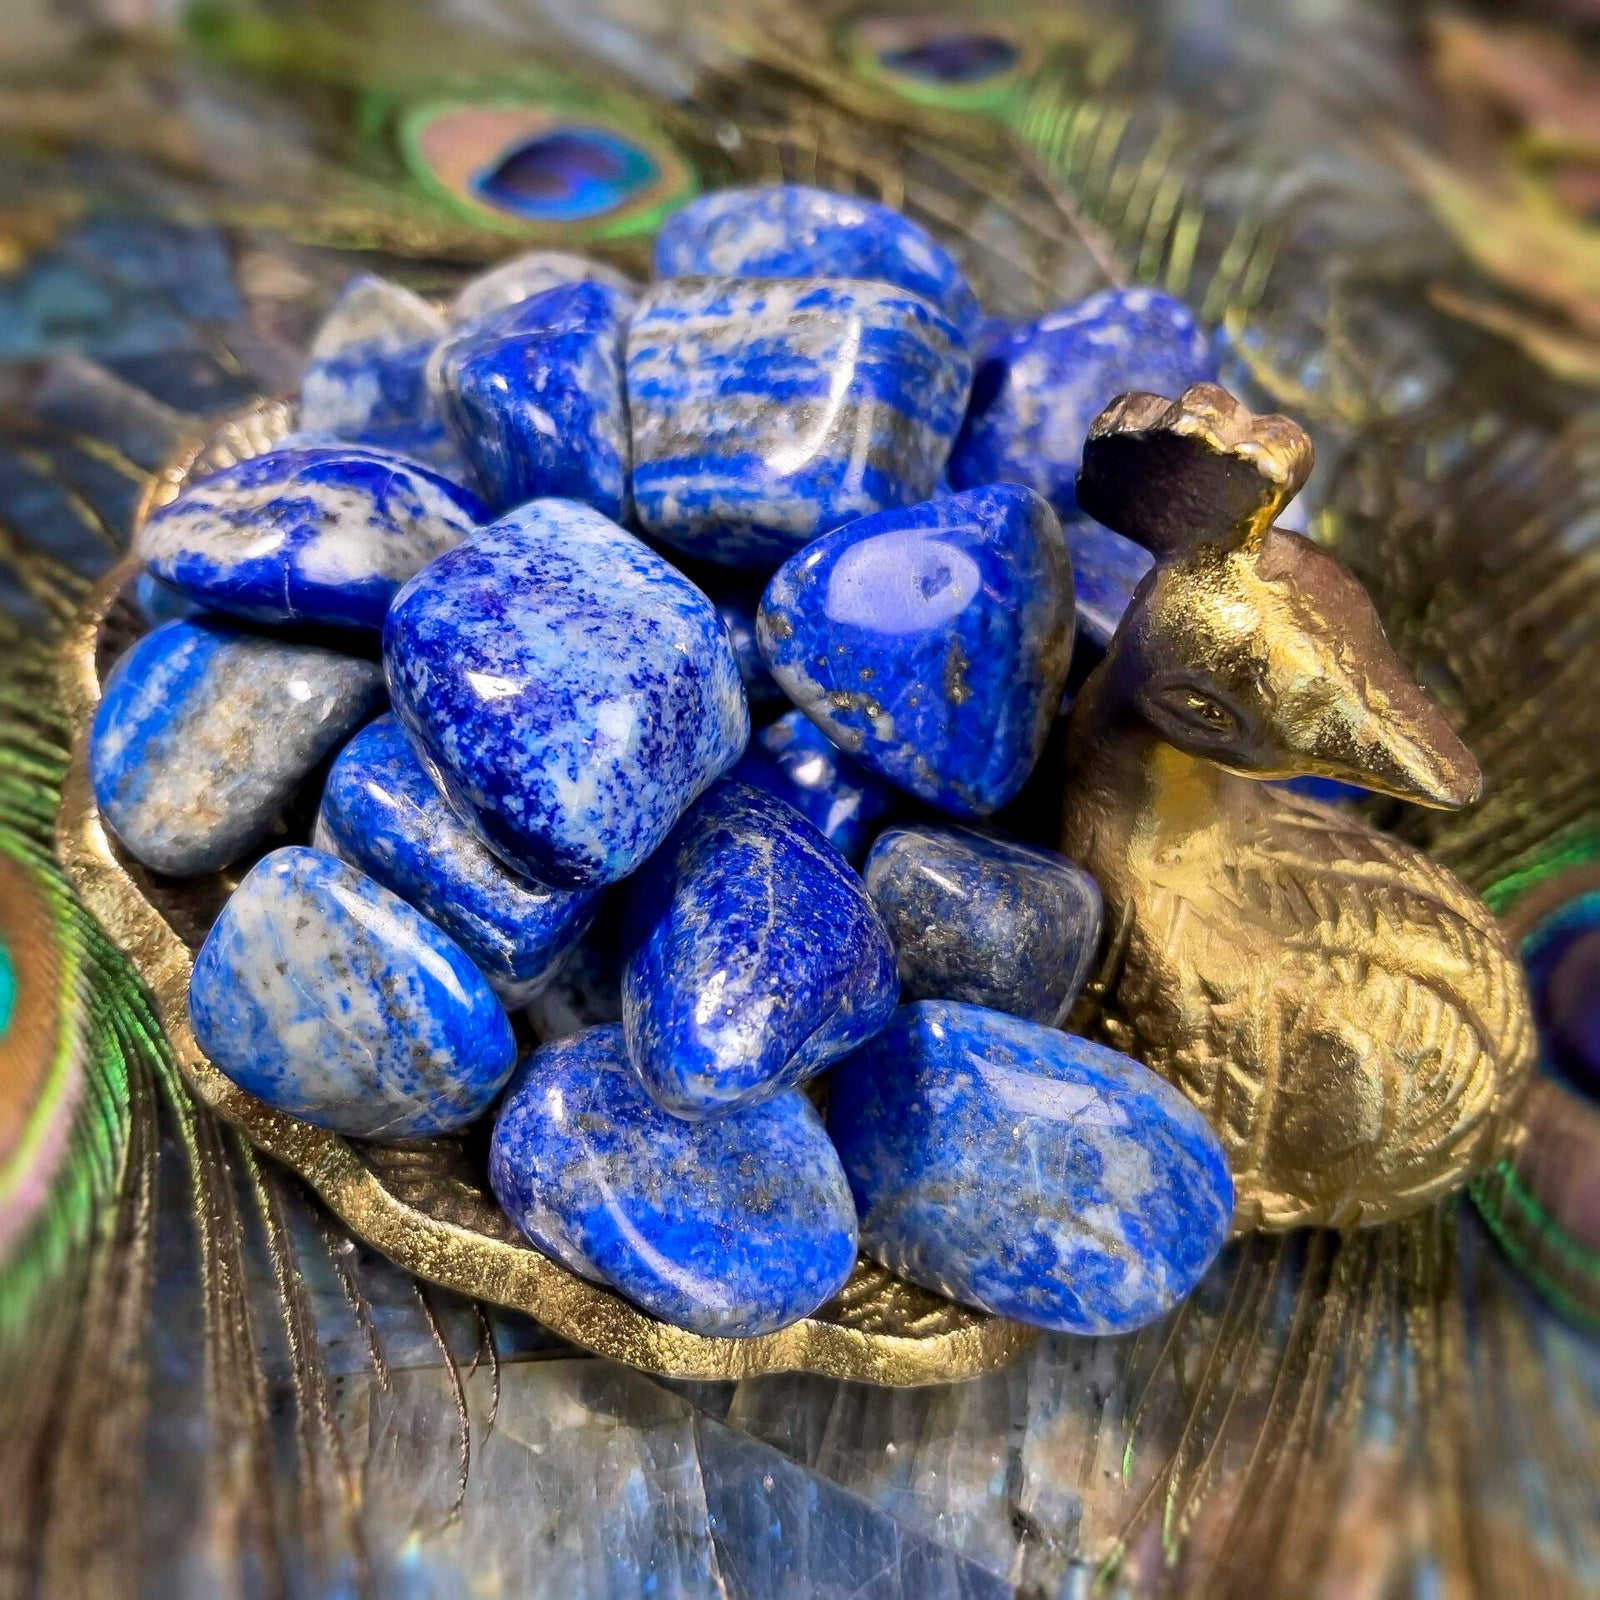Lapis_Lazuli: (379, 505, 747, 884), (174, 829, 525, 1150), (769, 482, 1080, 822)
